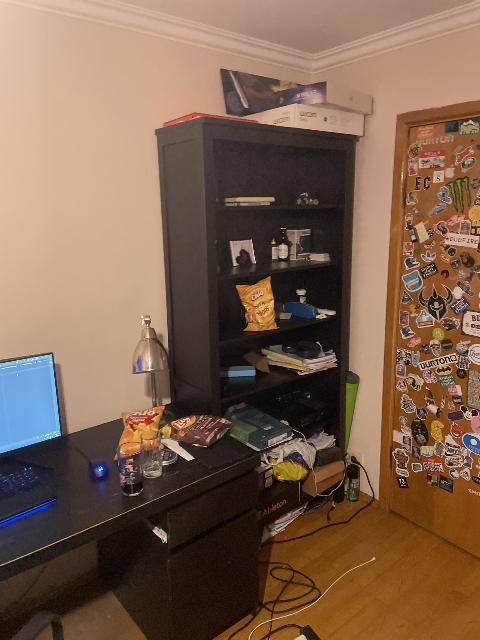Chio Cascaval 125g: (113, 404, 169, 461)
Chio Hula Hoops Cheese 70g: (236, 277, 278, 331)
Lays Beef Grilled Ribs 125g: (169, 414, 231, 447)
